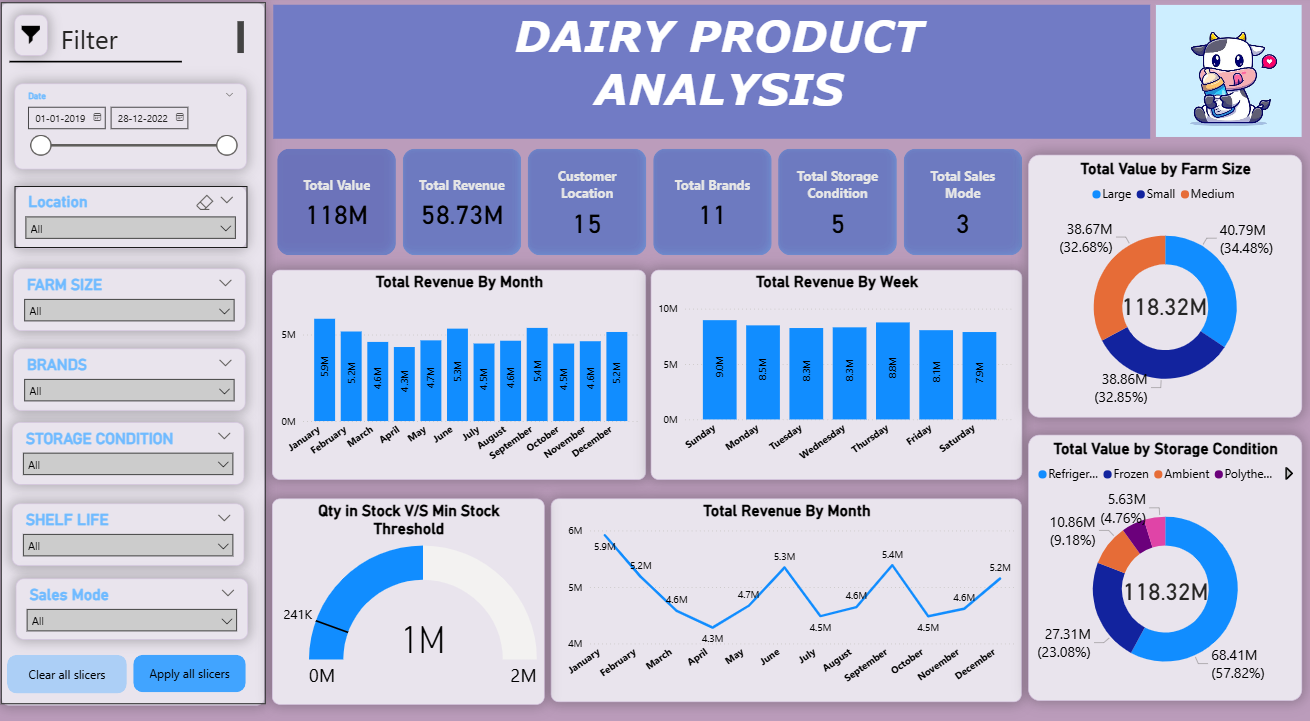

Layout of this report page (visuals, bound fields, positions):
{"tool":"powerbi","page":{"name":"Dairy Product Analysis ","canvas":[1614,902],"ordinal":0},"visuals":[{"type":"textbox","title":"      Filter ","box":[5.3,7.1,324.6,864.9],"z":0,"group":"g1"},{"type":"lineChart","title":" Total Revenue By Month","fields":{"Y":["Sum(dairy_dataset.Approx. Total Revenue(INR))"],"Category":["dairy_dataset.Date.Variation.Date Hierarchy.Month"]},"box":[681,617.9,579.5,250.6],"z":0},{"type":"group","id":"g1","title":"Group 1","box":[5.3,7.1,324.6,864.9],"z":1000},{"type":"slicer","fields":{"Values":["dairy_dataset.Customer Location"]},"box":[22.8,233.4,286,77.2],"z":1000,"group":"g1"},{"type":"textbox","box":[29.2,26.1,279.8,50.7],"z":2000},{"type":"slicer","fields":{"Values":["dairy_dataset.Farm Size"]},"box":[21.1,335.2,286,77.2],"z":2000,"group":"g1"},{"type":"slicer","fields":{"Values":["dairy_dataset.Brand"]},"box":[21.1,433.4,286,77.2],"z":3000,"group":"g1"},{"type":"cardVisual","fields":{"Data":["Sum(dairy_dataset.Total Value)","Sum(dairy_dataset.Approx. Total Revenue(INR))","Count(dairy_dataset.Customer Location)","Count(dairy_dataset.Brand)","Count(dairy_dataset.Storage Condition)","Count(dairy_dataset.Sales Channel)"]},"box":[339.7,182.9,928.4,141.4],"z":4000},{"type":"slicer","fields":{"Values":["dairy_dataset.Brand","dairy_dataset.Storage Condition"]},"box":[19.3,522.9,286,77.2],"z":4000,"group":"g1"},{"type":"textbox","box":[339.2,10.6,1078,165],"z":5000},{"type":"slicer","fields":{"Values":["dairy_dataset.Shelf Life (days)"]},"box":[19.3,622.9,286,77.2],"z":5000,"group":"g1"},{"type":"image","box":[22.3,22.3,40.5,50.1],"z":6000,"group":"g1"},{"type":"slicer","fields":{"Values":["dairy_dataset.Sales Channel"]},"box":[22.8,715.8,286,75.4],"z":6000},{"type":"slicer","fields":{"Values":["dairy_dataset.Date"]},"box":[22.8,107.1,286,105.3],"z":7000,"group":"g1"},{"type":"columnChart","title":"Total Revenue By Month","fields":{"Y":["Sum(dairy_dataset.Approx. Total Revenue(INR))"],"Category":["dairy_dataset.Date.Variation.Date Hierarchy.Month"]},"box":[338.2,336.6,459.6,258.2],"z":7000},{"type":"image","box":[1420.3,6.1,189.1,172.2],"z":8000},{"type":"columnChart","title":"Total Revenue By Week ","fields":{"Y":["Sum(dairy_dataset.Approx. Total Revenue(INR))"],"Category":["dairy_dataset.Day Name"]},"box":[803.9,336.6,456.5,258.2],"z":9000},{"type":"donutChart","title":"Total Value by Farm Size","fields":{"Category":["dairy_dataset.Farm Size"],"Y":["Sum(dairy_dataset.Total Value)"]},"box":[1268.2,195.2,336.6,322.8],"z":10000},{"type":"donutChart","title":"Total Value by Storage Condition","fields":{"Y":["Sum(dairy_dataset.Total Value)"],"Category":["dairy_dataset.Storage Condition"]},"box":[1268.2,539.5,336.6,327.4],"z":11000},{"type":"actionButton","box":[167.6,810.1,138.3,46.1],"z":12000},{"type":"actionButton","box":[12.3,810.1,147.6,47.7],"z":13000},{"type":"shape","box":[15.4,32.3,212.1,96.8],"z":14000},{"type":"gauge","title":" Qty in Stock  V/S Min Stock Threshold ","fields":{"TargetValue":["Sum(dairy_dataset.Minimum Stock Threshold (liters/kg))"],"Y":["Sum(dairy_dataset.Quantity in Stock (liters/kg))"]},"box":[338.2,614.9,335.1,253.6],"z":15000},{"type":"card","fields":{"Values":["Sum(dairy_dataset.Total Value)"]},"box":[1361.9,324.3,147.6,112.2],"z":16000},{"type":"card","fields":{"Values":["Sum(dairy_dataset.Total Value)"]},"box":[1371.1,661,132.2,139.9],"z":17000}]}

Visuals, with their boxes in screenshot pixels (x1, y1, x2, y2), scaled from the page's 1614x902 canvas onto the 1310x721 screenshot:
"      Filter " textbox: 4:6:268:697
" Total Revenue By Month" lineChart: 553:494:1023:694
"Group 1" group: 4:6:268:697
slicer - dairy_dataset.Customer Location: 19:187:251:248
textbox: 24:21:251:61
slicer - dairy_dataset.Farm Size: 17:268:249:330
slicer - dairy_dataset.Brand: 17:346:249:408
cardVisual - Sum(dairy_dataset.Total Value) x Sum(dairy_dataset.Approx. Total Revenue(INR)): 276:146:1029:259
slicer - dairy_dataset.Brand x dairy_dataset.Storage Condition: 16:418:248:480
textbox: 275:8:1150:140
slicer - dairy_dataset.Shelf Life (days): 16:498:248:560
image: 18:18:51:58
slicer - dairy_dataset.Sales Channel: 19:572:251:632
slicer - dairy_dataset.Date: 19:86:251:170
"Total Revenue By Month" columnChart: 274:269:648:475
image: 1153:5:1306:143
"Total Revenue By Week " columnChart: 652:269:1023:475
"Total Value by Farm Size" donutChart: 1029:156:1303:414
"Total Value by Storage Condition" donutChart: 1029:431:1303:693
actionButton: 136:648:248:684
actionButton: 10:648:130:686
shape: 12:26:185:103
" Qty in Stock  V/S Min Stock Threshold " gauge: 274:492:546:694
card - Sum(dairy_dataset.Total Value): 1105:259:1225:349
card - Sum(dairy_dataset.Total Value): 1113:528:1220:640
